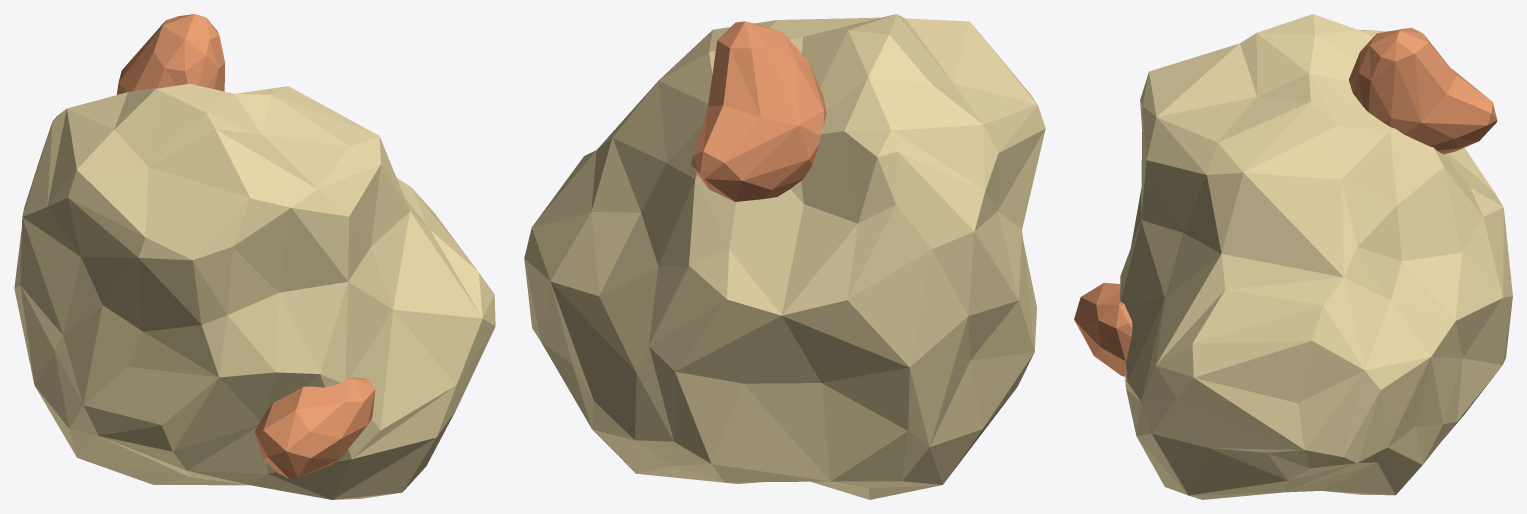
The model's file is StoneOre (25).fbx.
3 views of the same model, side by side, from view 1: azimuth 30°, elevation 25°; view 2: azimuth 150°, elevation 25°; view 3: azimuth 270°, elevation 25° (orthographic). The views are drawn at different scales.
Parts seen in each view (by area): view 1: Asteroid312; view 2: Asteroid312; view 3: Asteroid312.
Boxes of the visible parts, left/top/right/bottom form: Asteroid312: left=14, top=14, right=495, bottom=499; Asteroid312: left=524, top=14, right=1045, bottom=499; Asteroid312: left=1074, top=14, right=1512, bottom=499.
Bounding box in the file's own units: 257 × 261 × 244.
